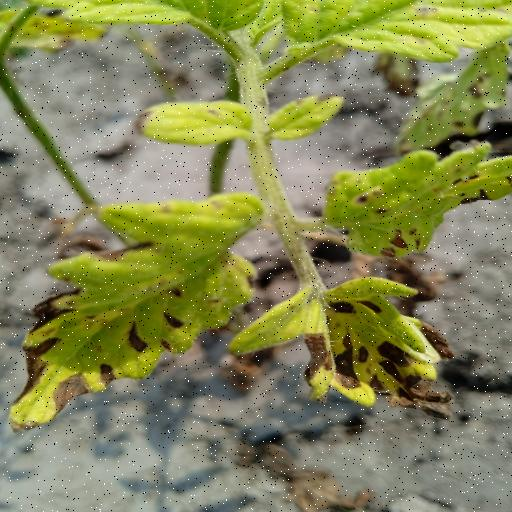Tomato_Brown_Spots: (6, 186, 268, 438), (225, 276, 462, 430), (317, 138, 512, 264)
